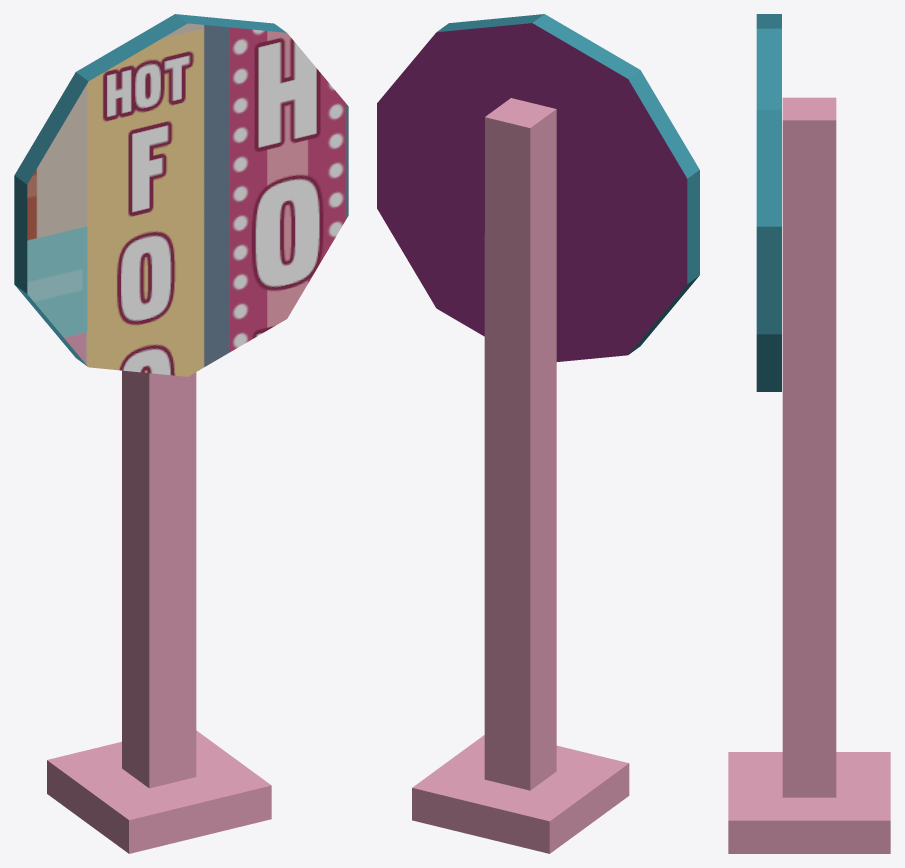
Rendered from Prop_DoNotEnter_Sign.fbx.
3 views of the same model, side by side, from view 1: azimuth 30°, elevation 25°; view 2: azimuth 150°, elevation 25°; view 3: azimuth 270°, elevation 25° (orthographic). The views are drawn at different scales.
Parts seen in each view (by area): view 1: Prop_DoNotEnter_Sign; view 2: Prop_DoNotEnter_Sign; view 3: Prop_DoNotEnter_Sign.
Boxes of the visible parts, x1,y1,x2,y2 form: Prop_DoNotEnter_Sign: (14, 14, 348, 853); Prop_DoNotEnter_Sign: (377, 14, 699, 853); Prop_DoNotEnter_Sign: (728, 14, 890, 853).
Bounding box in the file's own units: 1.32 × 3.15 × 0.5853.
